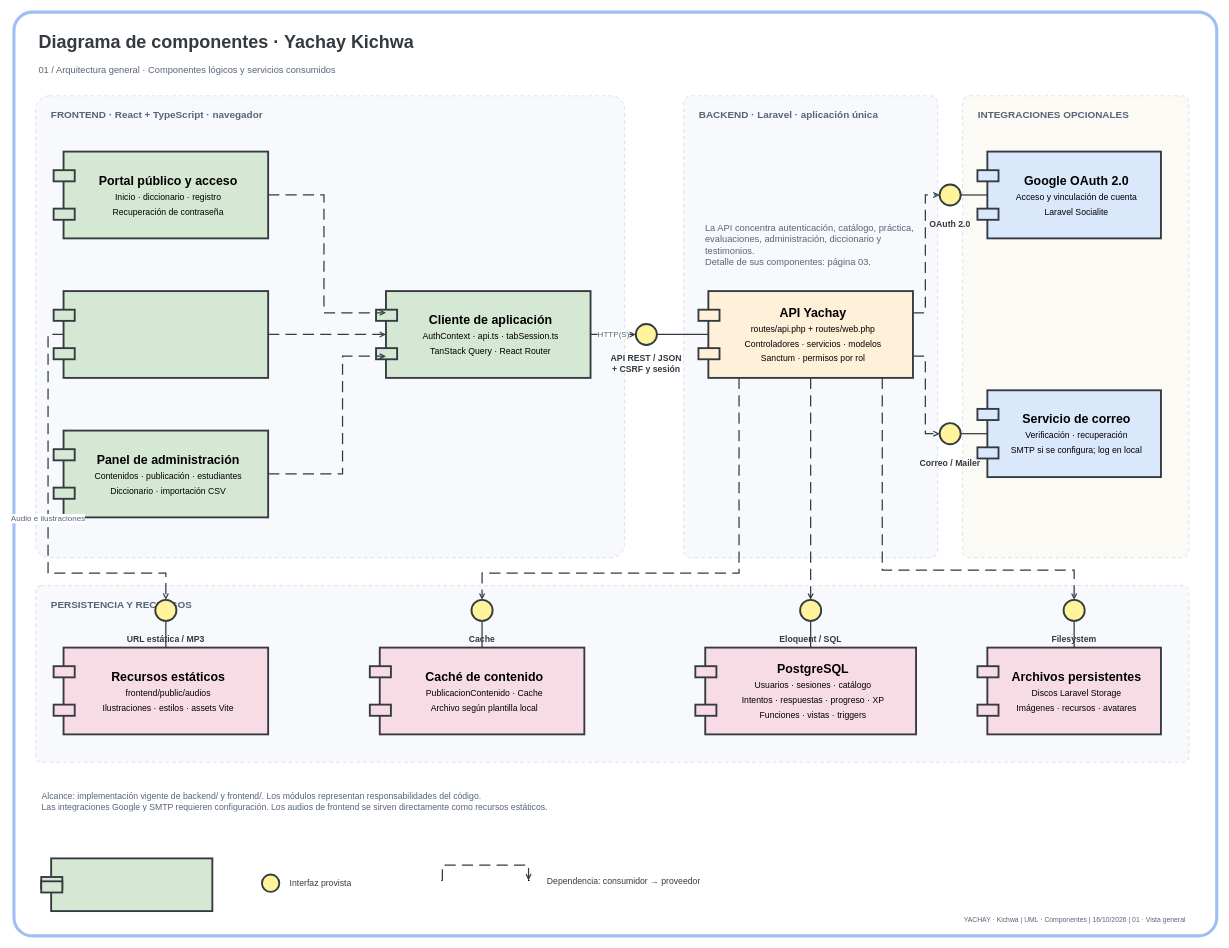
The diagram is 1229 pixels wide and 948 high, and some of its shapes have lost their labels. The box of each missing label's shape, as (x1, y1, x2, y2) in pixels:
Componente Unidad lógica del sistema: (50, 857, 213, 912)
Área del estudiante Lecciones · ejercicios · evaluaciones Progreso · XP · cuenta: (62, 290, 269, 379)
